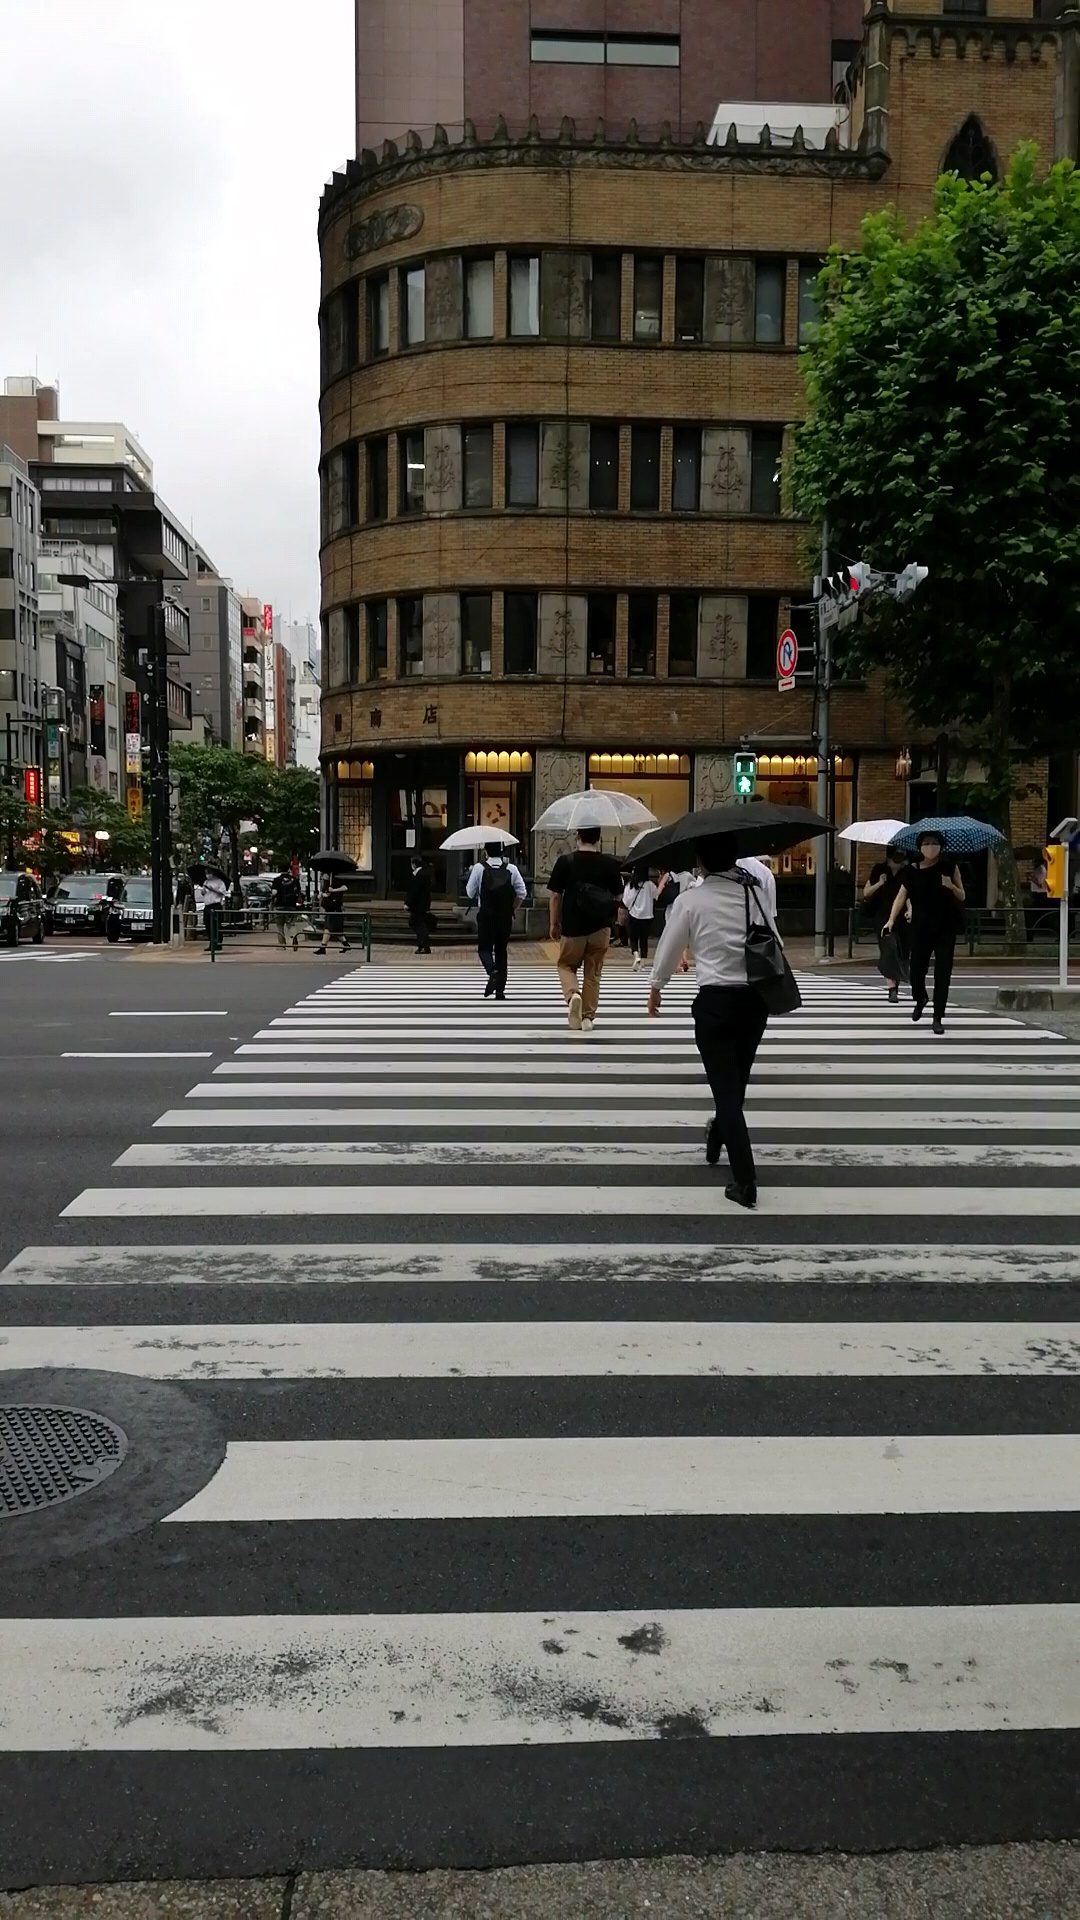green: (733, 752, 754, 796)
